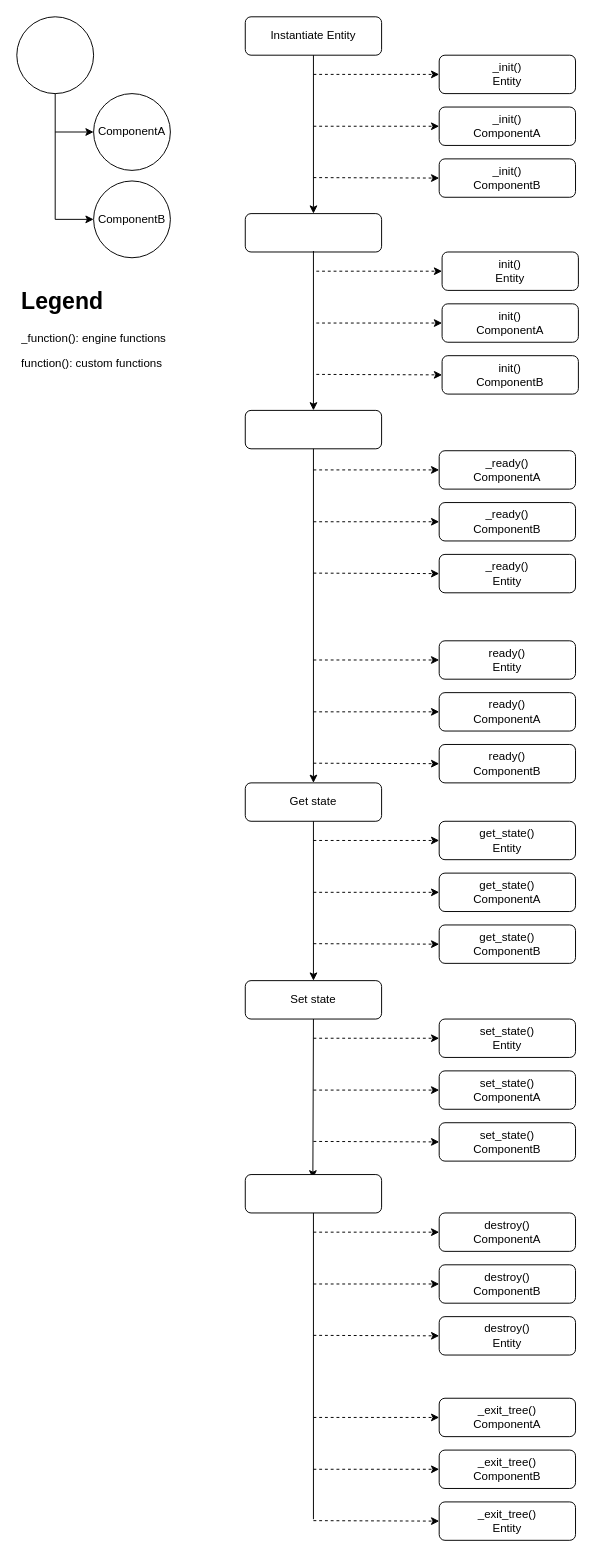
Image size: 595x1557. Some labels were removed from this diagram. Each missing label, with the centre of its shape:
"Add child" goes at point (313, 429).
"Destroy" goes at point (313, 1193).
"Entity" goes at point (55, 55).
"Init" goes at point (313, 232).
